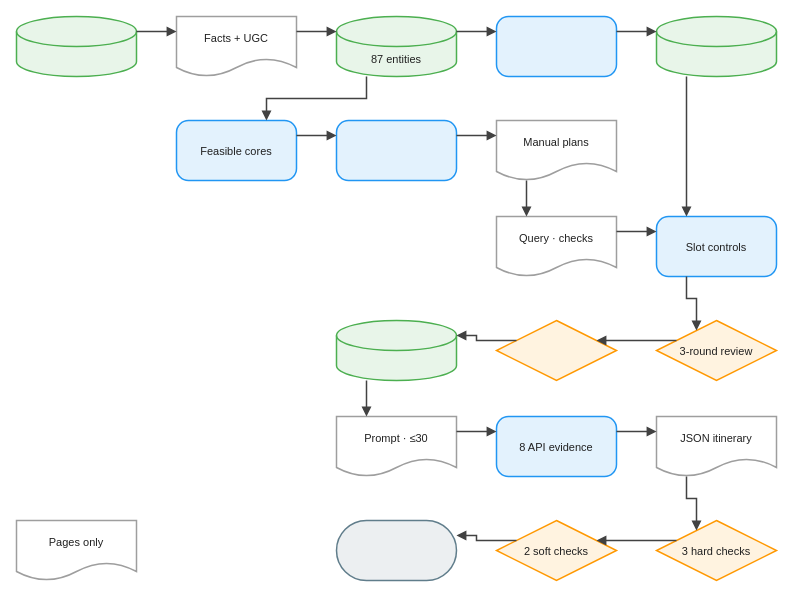
This 793x597 diagram has some shape labels left out. The centre of each missing label's shape, as x and y in pixels:
150 tasks: the point at 396,350
2,003 pages: the point at 716,46
3-model filter: the point at 556,350
5 cities: the point at 76,46
GPT-5.2 pages: the point at 556,46
Task variants: the point at 396,150
Three metrics: the point at 396,550
